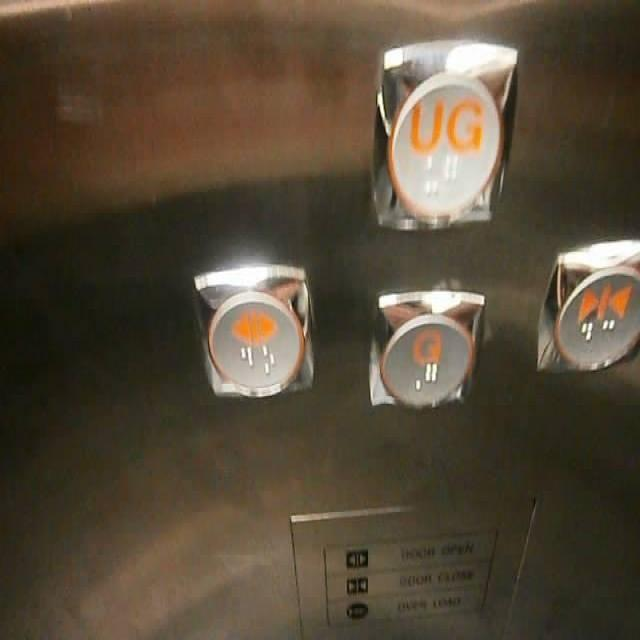G: (366, 286, 487, 414)
UG: (366, 31, 518, 230)
close: (533, 239, 639, 372), (344, 574, 369, 594)
open: (191, 262, 314, 398), (343, 546, 370, 570)
